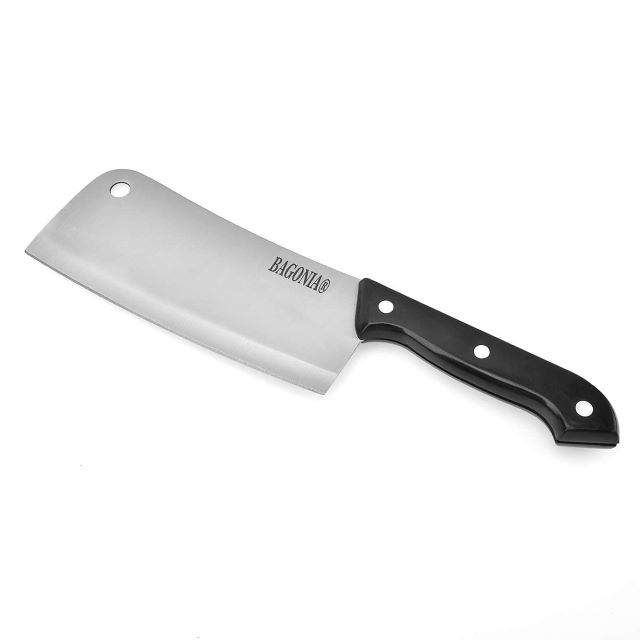knife: (21, 163, 619, 463)
